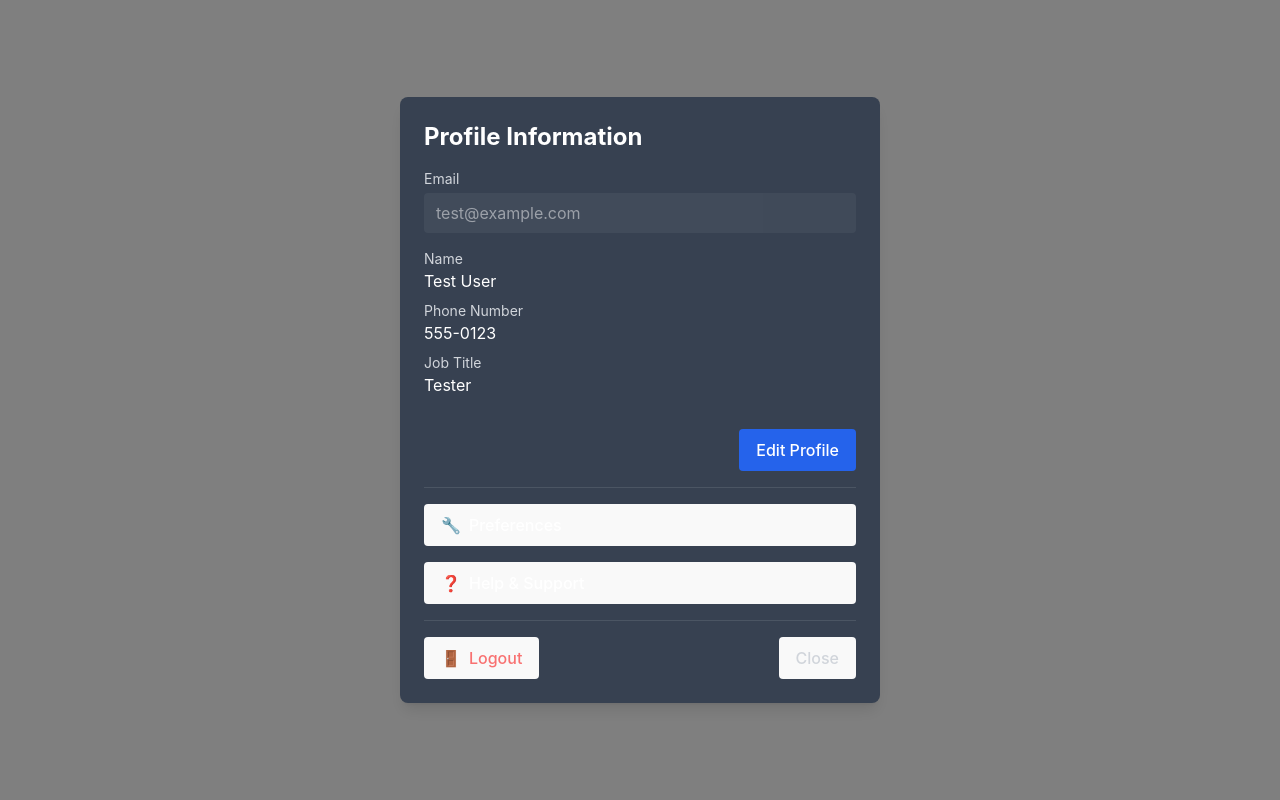
Scenario: ProfilePopout › switches to edit mode when Edit Profile button is clicked
Click the button "Edit Profile".
click(798, 450)  # box left=739, top=429, right=856, bottom=471
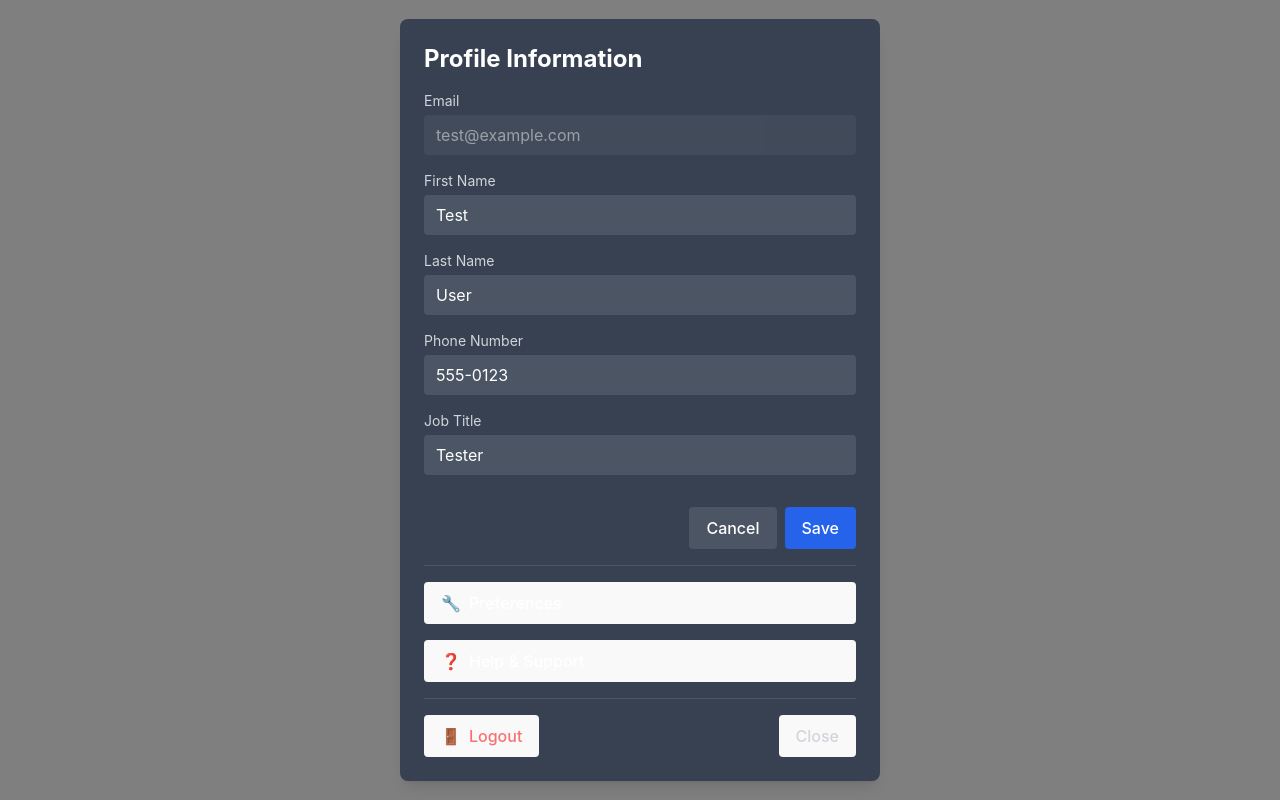
expect the field named "first name" holds "Test": met, box left=424, top=195, right=856, bottom=235
expect the field named "last name" holds "User": met, box left=424, top=275, right=856, bottom=315
expect the field named "phone number" holds "555-0123": met, box left=424, top=355, right=856, bottom=395
